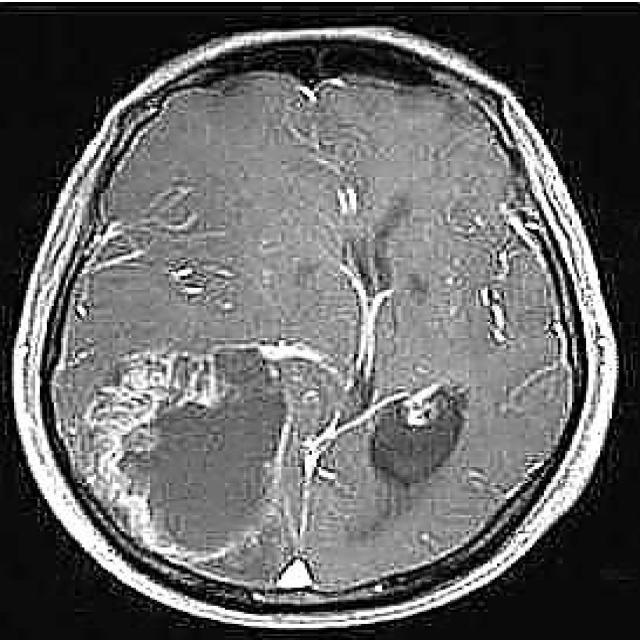brain tumor: (87, 346, 288, 568), (370, 384, 469, 487)
